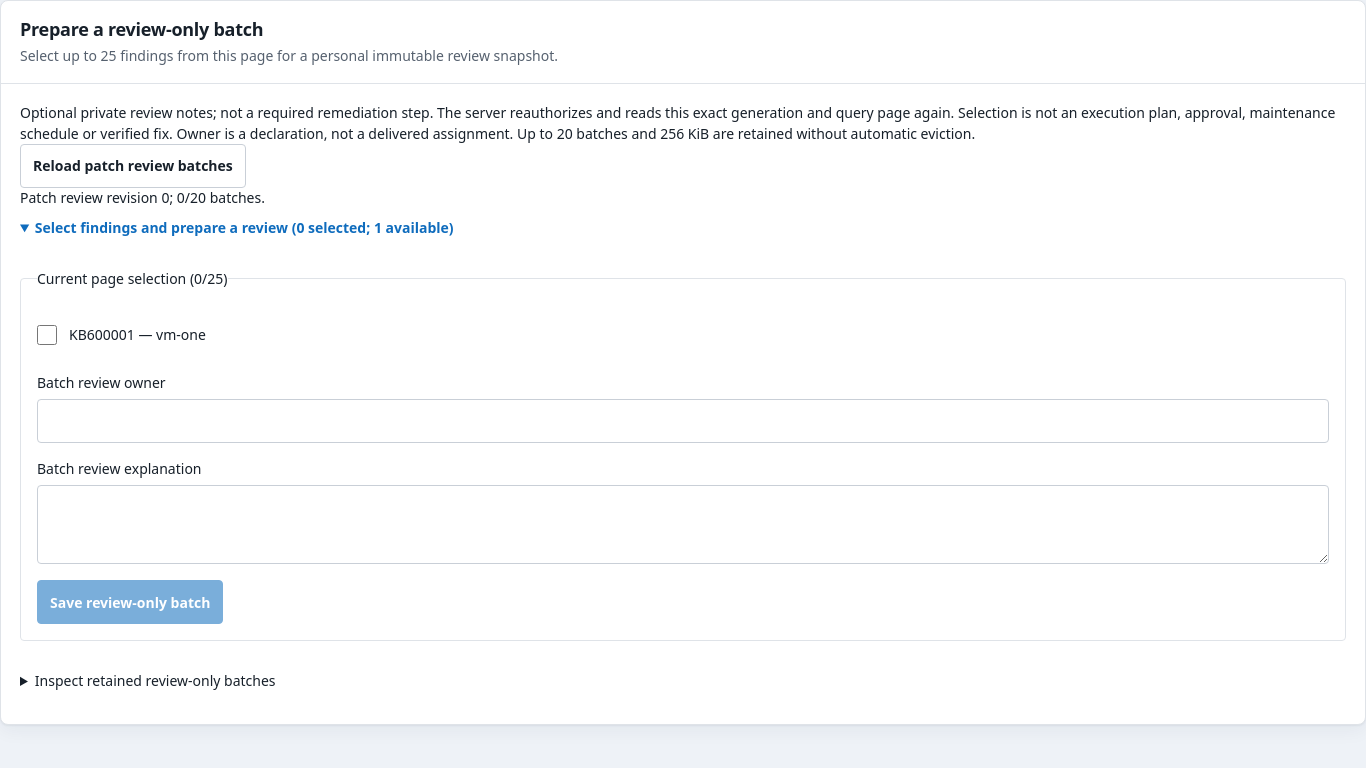
Review-only patch batch › requires selection and explicit declaration; never creates automatically
expect the text "Patch review revision 0; 0/20 batches." is shown: met, box [20, 188, 265, 207]
expect the button "Save review-only batch" is disabled: met, box [37, 580, 223, 624]
Click the checkbox labelled "KB600001 — vm-one" at (47, 335), box [37, 325, 57, 345]
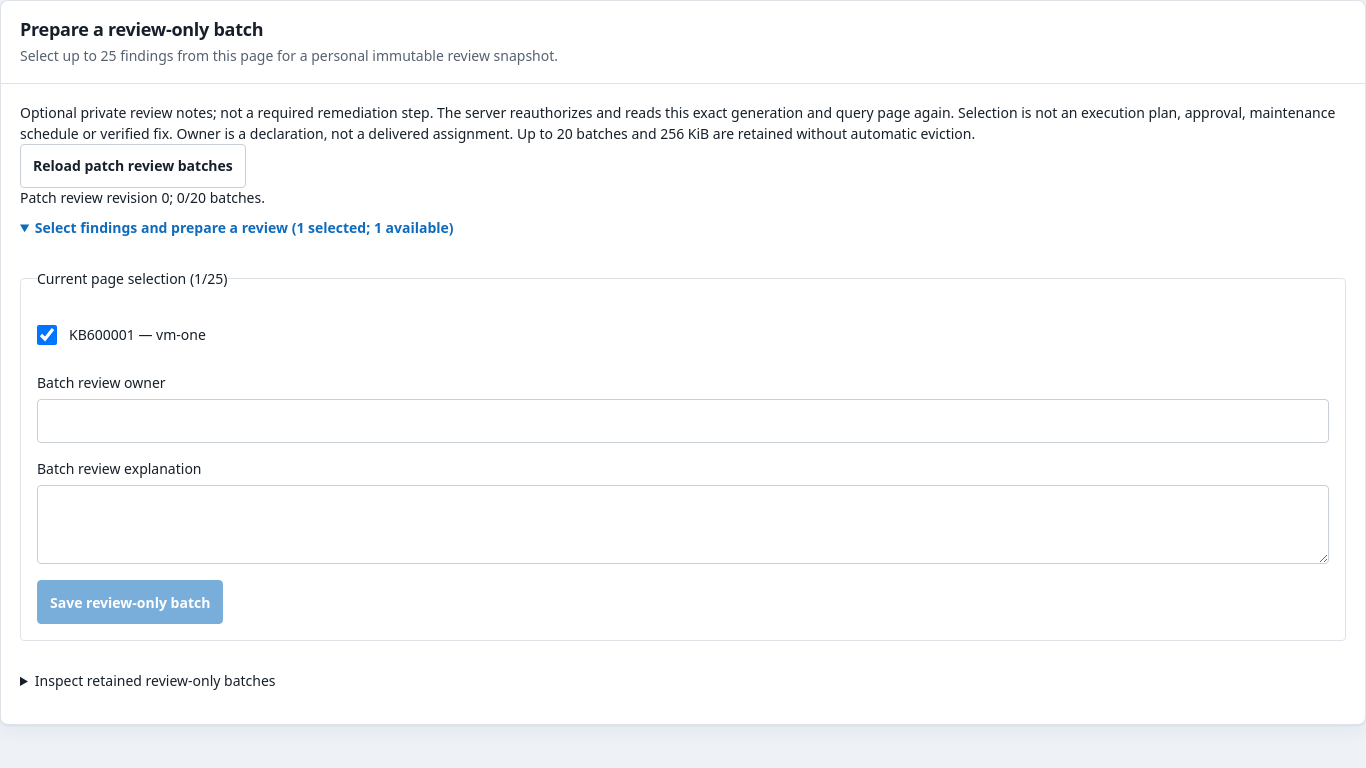
Type "Operations" into the field labelled "Batch review owner" at (683, 421), box [37, 399, 1329, 443]
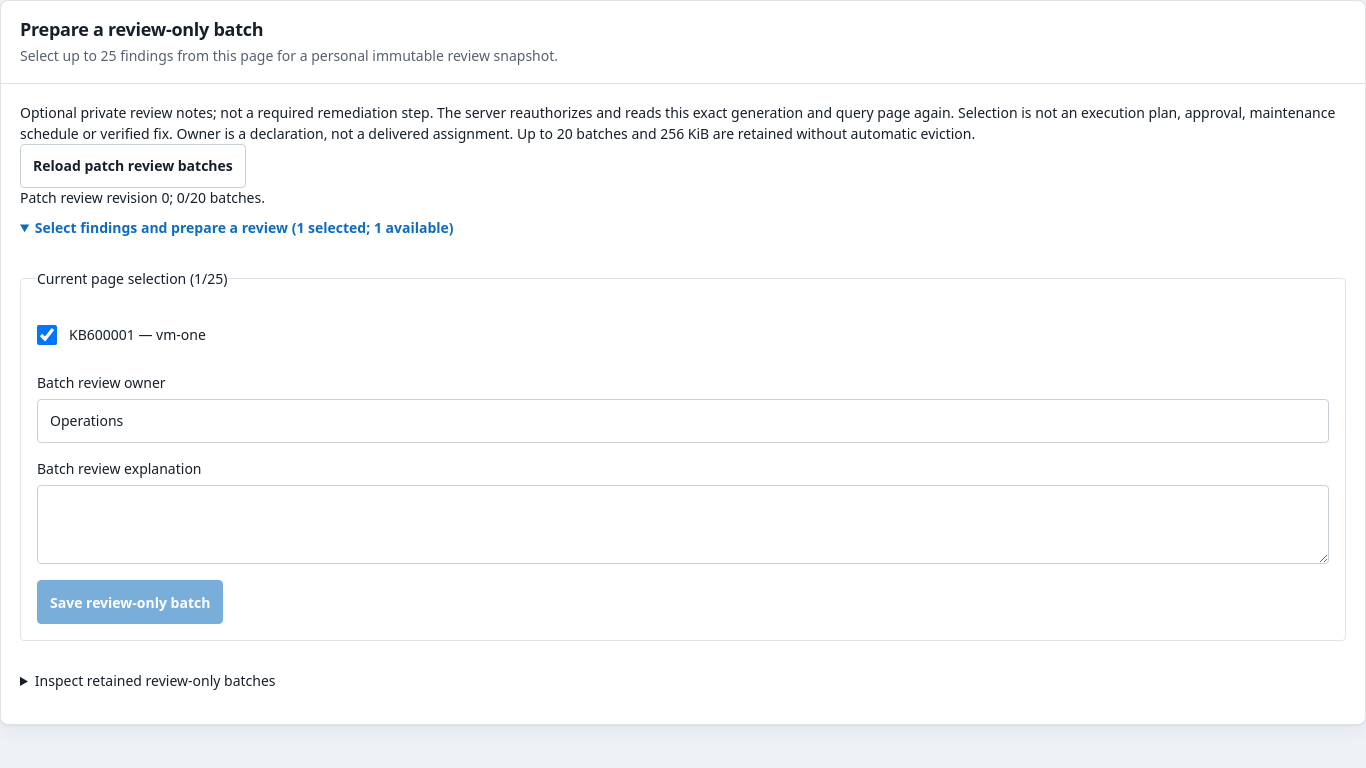
Type "Review missing updates" into the text box labelled "Batch review explanation" at (683, 525), box [37, 486, 1329, 564]
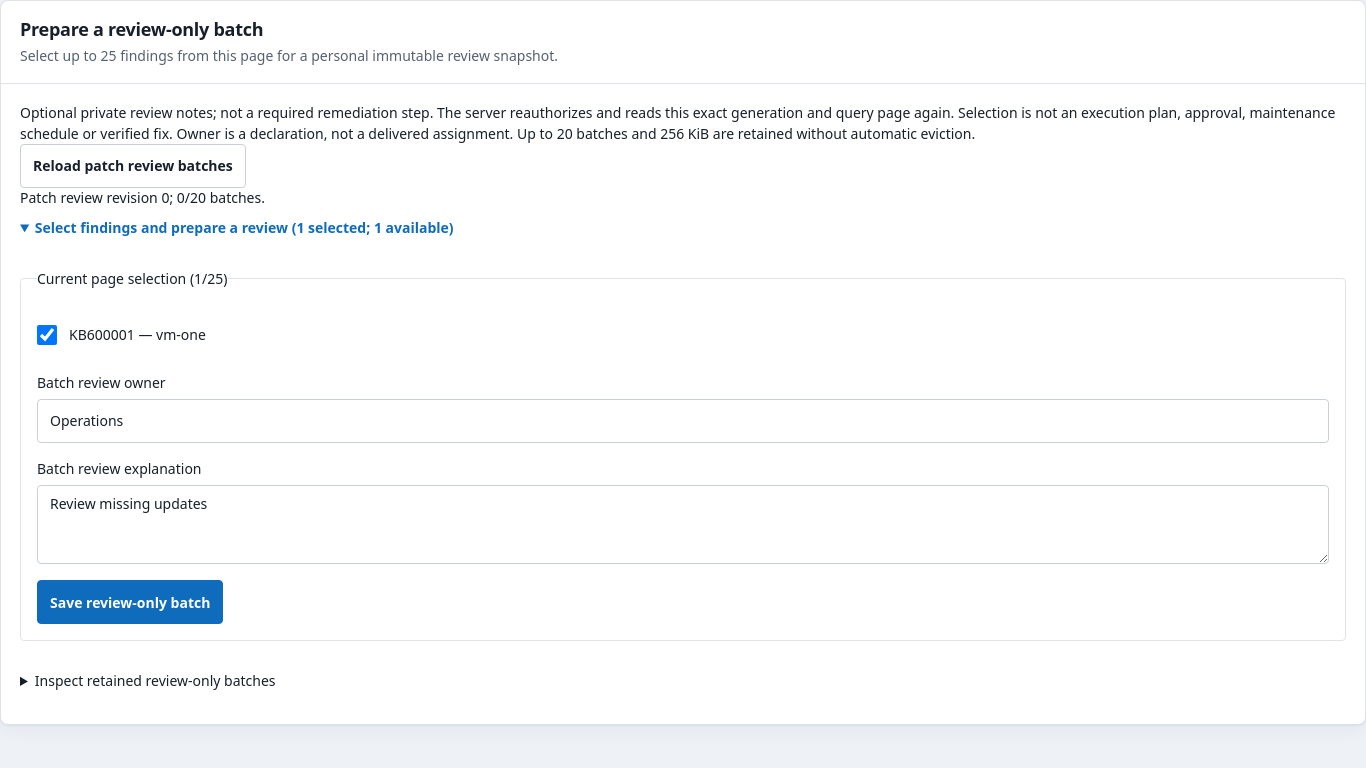
Click the button "Save review-only batch" at (130, 602), box [37, 580, 223, 624]
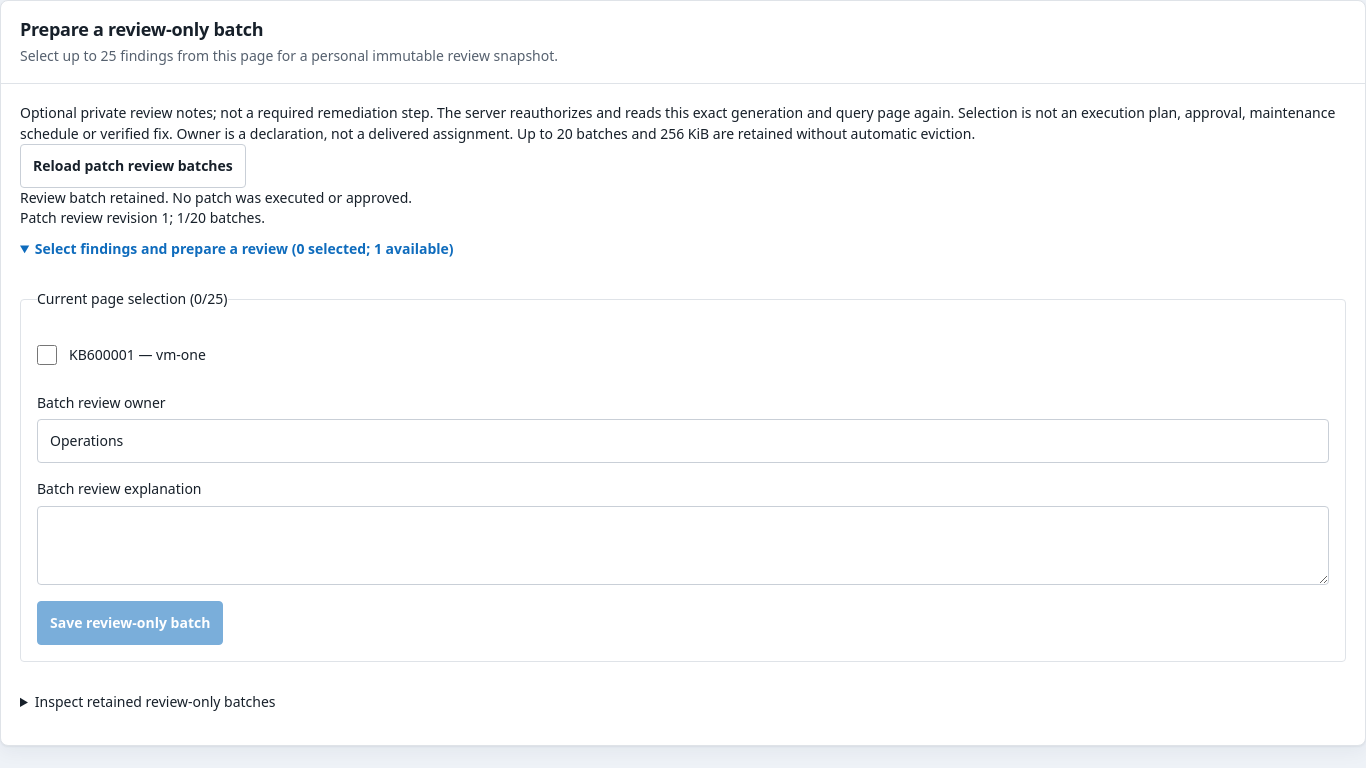
expect the checkbox is not checked: met, box [37, 345, 57, 365]
expect the text "Review batch retained. No patch was executed or approved." is shown: met, box [20, 188, 412, 207]
Click the heading "Inspect retained review-only batches" at (155, 701), box [35, 692, 276, 711]
(page scrolled)
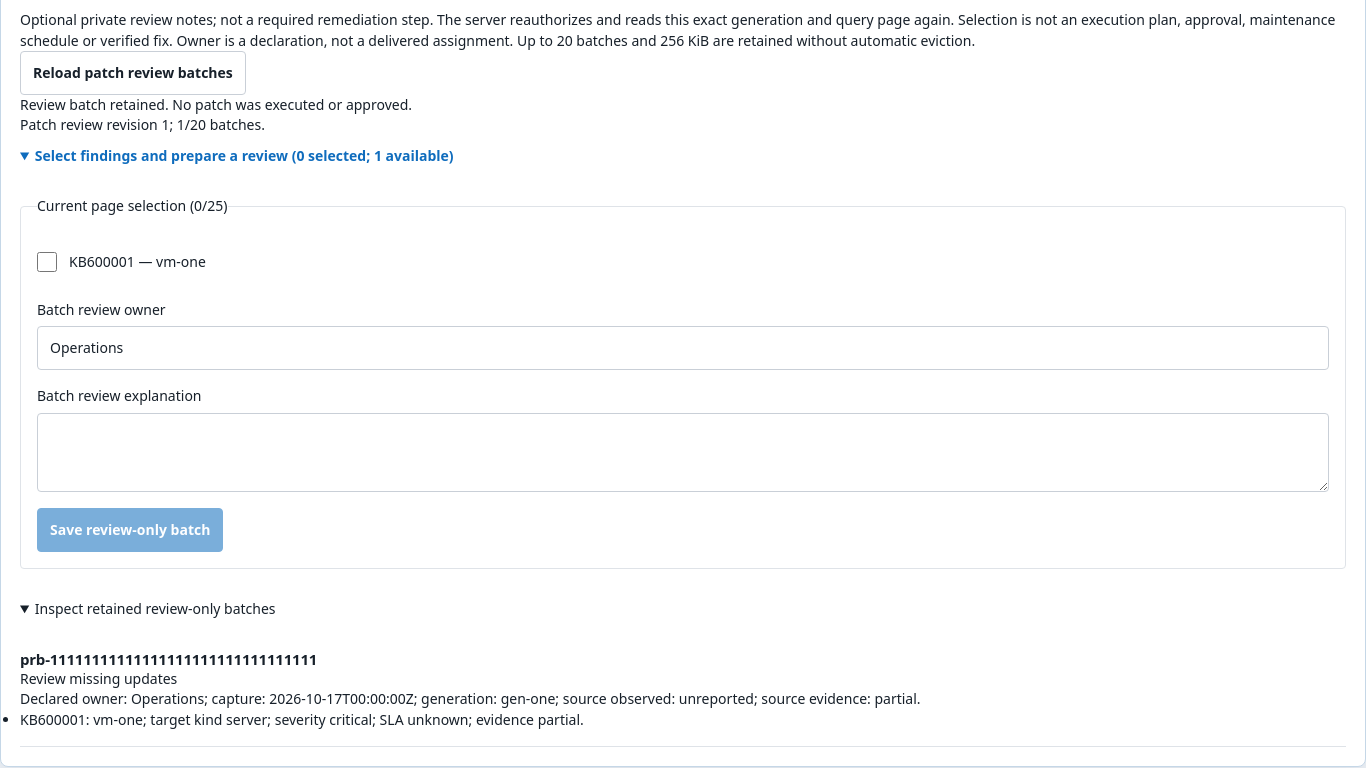
expect the text "source observed: unreported" is shown: met, box [20, 689, 921, 708]
expect the text "Review missing updates" is shown: met, box [20, 669, 177, 688]
